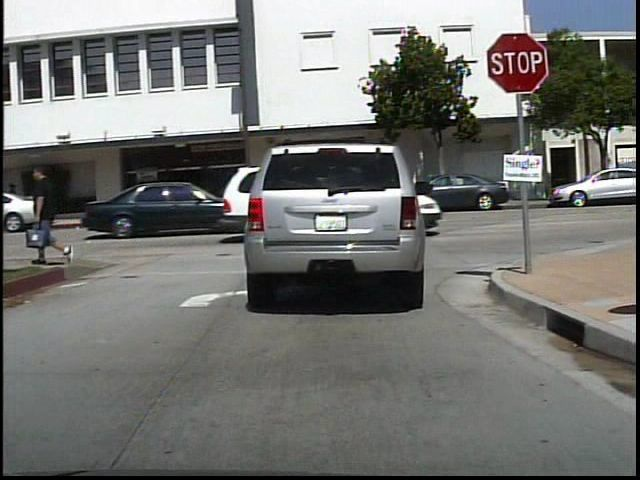person: (25, 161, 87, 267), (38, 179, 62, 226), (5, 177, 29, 222)
